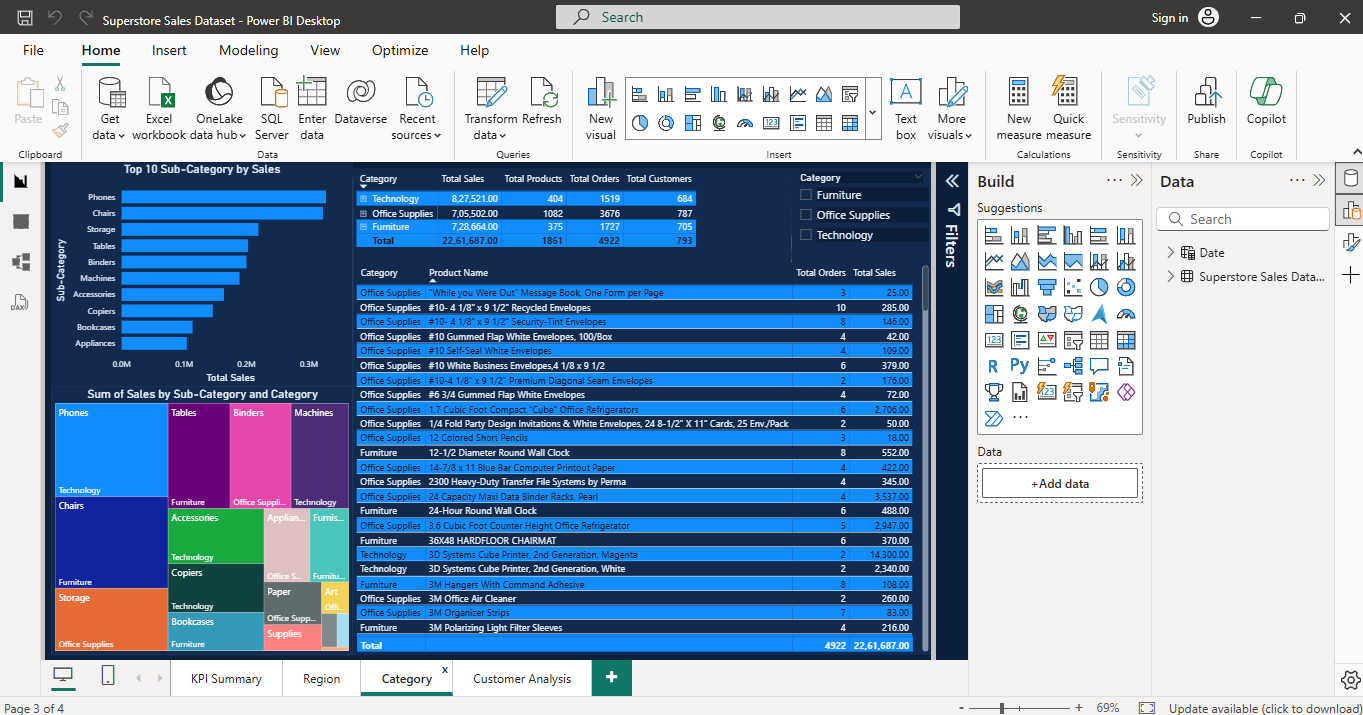

The page's visual inventory and layout, read from the dashboard file:
{"tool":"powerbi","page":{"name":"Category","canvas":[1280,720],"ordinal":2},"visuals":[{"type":"clusteredBarChart","fields":{"Category":["Superstore Sales Dataset.Sub-Category"],"Y":["Sum(Superstore Sales Dataset.Sales)"]},"box":[8.7,0,228.6,322.7],"z":0},{"type":"treemap","fields":{"Group":["Superstore Sales Dataset.Sub-Category"],"Details":["Superstore Sales Dataset.Category"],"Values":["Sum(Superstore Sales Dataset.Sales)"]},"box":[9.3,323,227.7,387.9],"z":1000},{"type":"tableEx","fields":{"Values":["Superstore Sales Dataset.Product Name","Superstore Sales Dataset.Category","Superstore Sales Dataset.Sub-Category","DateTable.Total Order","DateTable.Total Sales"]},"box":[235.9,0,904.4,710.5],"z":2000},{"type":"slicer","fields":{"Values":["Superstore Sales Dataset.Category"]},"box":[1121.5,0,159.2,710.5],"z":3000}]}

Visuals, with their boxes on the page's 1280x720 design canvas (x1, y1, x2, y2). These are canvas units, not pixel positions in the 1363x715 screenshot, which may show the page scaled, cropped or inside an application window:
clusteredBarChart - Superstore Sales Dataset.Sub-Category x Sum(Superstore Sales Dataset.Sales): [9, 0, 237, 323]
treemap - Superstore Sales Dataset.Sub-Category x Superstore Sales Dataset.Category: [9, 323, 237, 711]
tableEx - Superstore Sales Dataset.Product Name x Superstore Sales Dataset.Category: [236, 0, 1140, 710]
slicer - Superstore Sales Dataset.Category: [1122, 0, 1281, 710]
